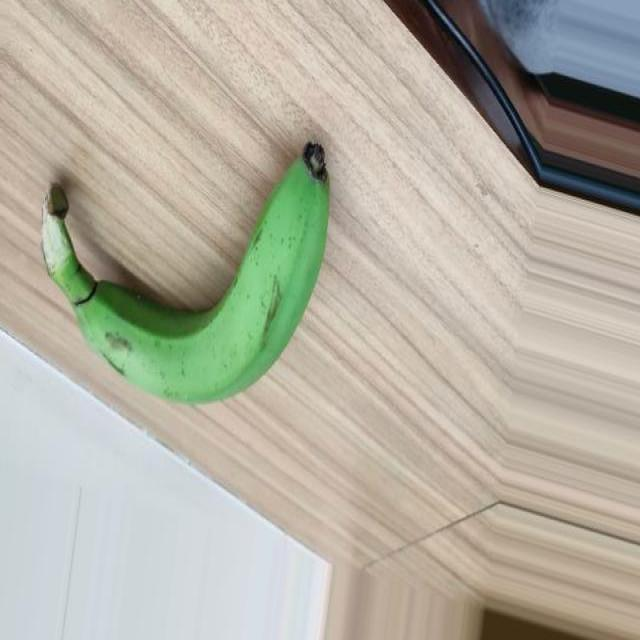Unripe: (38, 140, 329, 404)
